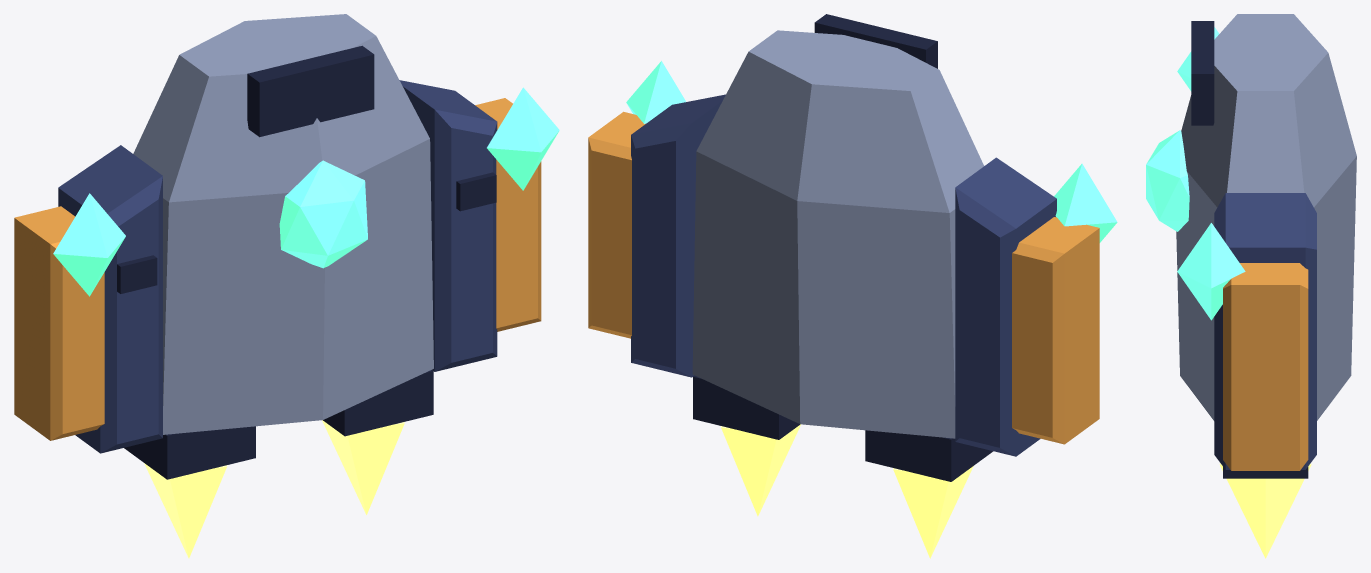
The model's file is bastion.glb.
3 renders of one model, left to right at view 1: azimuth 30°, elevation 25°; view 2: azimuth 150°, elevation 25°; view 3: azimuth 270°, elevation 25°, orthographic. The views are drawn at different scales.
Visible parts, largest first — view 1: hull, wing_L, wing_R, tip_L, tip_R, cockpit, emitter_R, emitter_L, flame_L, flame_R; view 2: hull, wing_L, tip_L, wing_R, tip_R, flame_R, flame_L, emitter_L, emitter_R; view 3: hull, tip_R, wing_R, cockpit, flame_R, emitter_R, emitter_L.
Part boxes in pixels (x1=…): hull: x1=124, y1=14, x2=433, y2=479; wing_L: x1=58, y1=145, x2=162, y2=453; wing_R: x1=399, y1=80, x2=497, y2=371; tip_L: x1=14, y1=206, x2=104, y2=440; tip_R: x1=475, y1=98, x2=541, y2=331; cockpit: x1=279, y1=160, x2=367, y2=268; emitter_R: x1=487, y1=87, x2=559, y2=190; emitter_L: x1=53, y1=193, x2=125, y2=296; flame_L: x1=144, y1=463, x2=227, y2=558; flame_R: x1=322, y1=420, x2=404, y2=514; hull: x1=692, y1=14, x2=992, y2=481; wing_L: x1=955, y1=157, x2=1056, y2=456; tip_L: x1=1012, y1=217, x2=1099, y2=444; wing_R: x1=631, y1=94, x2=725, y2=377; tip_R: x1=588, y1=111, x2=645, y2=338; flame_R: x1=720, y1=424, x2=800, y2=516; flame_L: x1=893, y1=466, x2=973, y2=558; emitter_L: x1=1054, y1=163, x2=1117, y2=242; emitter_R: x1=626, y1=61, x2=685, y2=123; hull: x1=1176, y1=14, x2=1356, y2=478; tip_R: x1=1223, y1=263, x2=1308, y2=470; wing_R: x1=1214, y1=193, x2=1316, y2=469; cockpit: x1=1146, y1=130, x2=1189, y2=231; flame_R: x1=1219, y1=463, x2=1311, y2=558; emitter_R: x1=1177, y1=223, x2=1245, y2=320; emitter_L: x1=1177, y1=27, x2=1219, y2=91.
Bounding box in the file's own units: 19.4 × 18.2 × 7.39.
